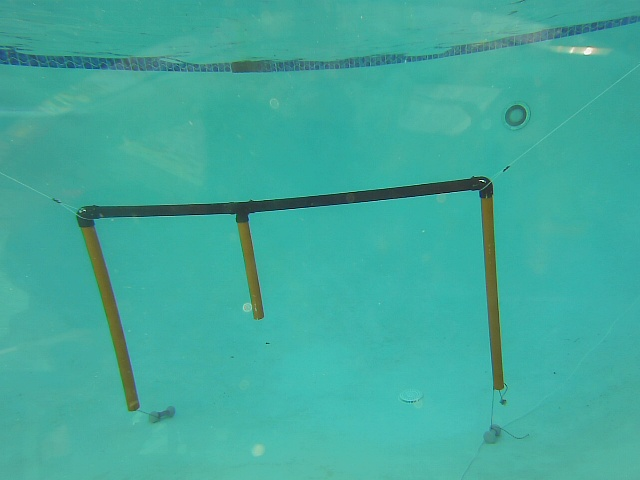Gate: (76, 221, 143, 412), (475, 194, 506, 392), (234, 219, 265, 323)
